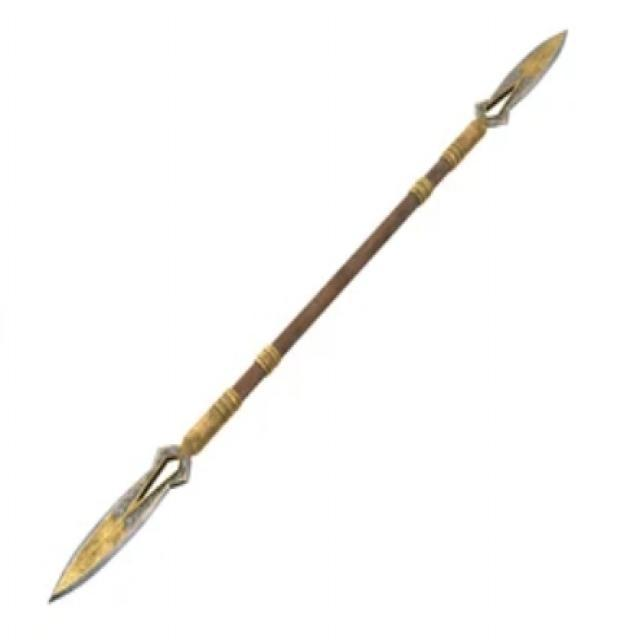spear: (18, 9, 604, 618)
